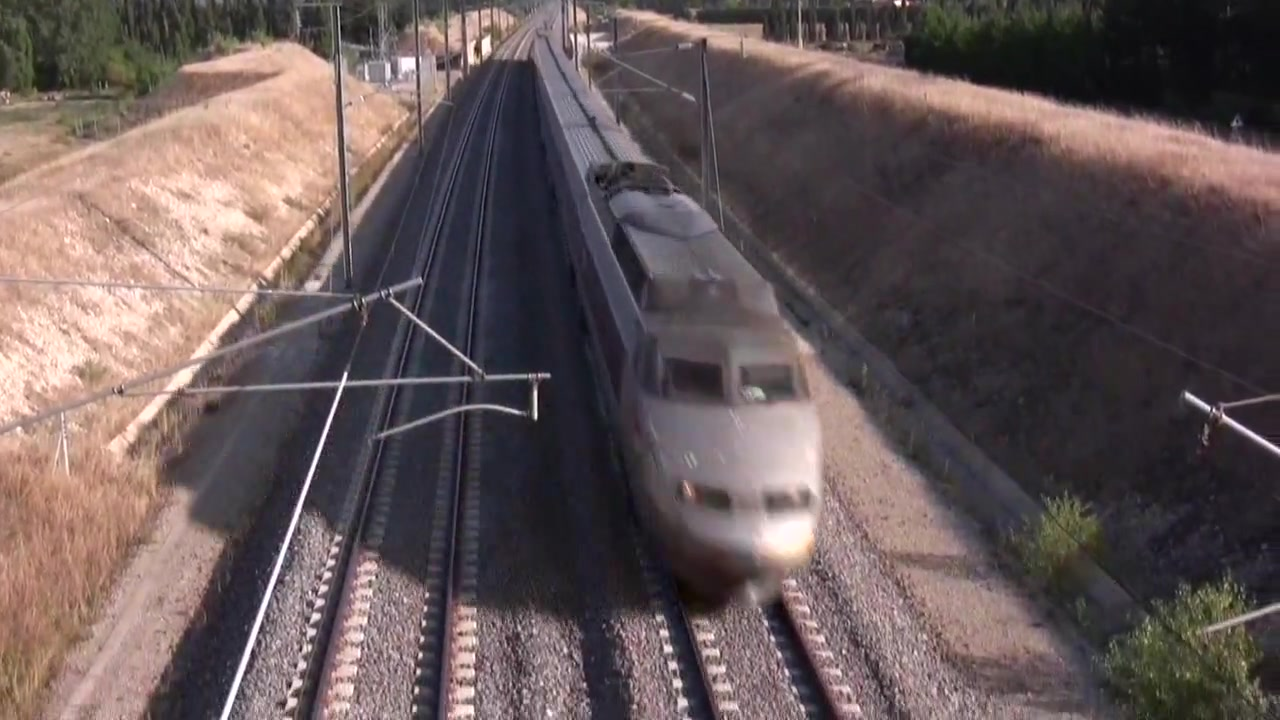train: (525, 22, 831, 609)
